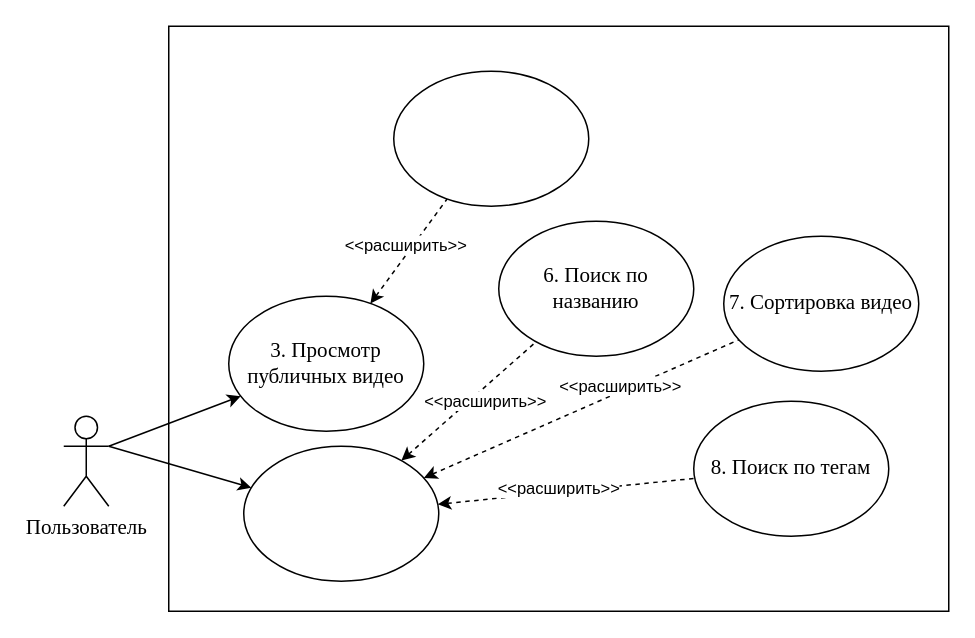
This 975x638 diagram has some shape labels left out. Here are the shapes that lost their labels. From the top down, the centre of each, then its label:
At point (490, 138): "4. Просмотр комметариев под видео".
At point (340, 513): "5. Поиск публичных видео".
